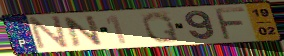1: (105, 14, 128, 45)
9: (183, 9, 217, 42)
F: (212, 7, 248, 42)
N: (28, 14, 72, 50), (61, 14, 106, 48)
Q: (140, 10, 182, 44)
